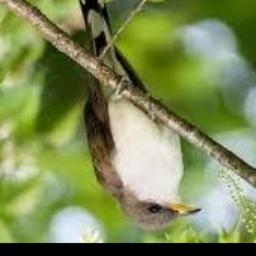Cuckoo: (71, 0, 202, 229)
